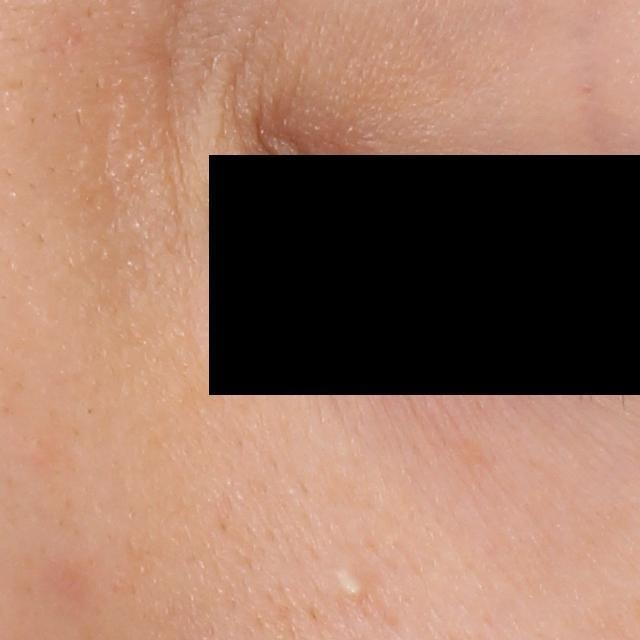comedo: (339, 569, 363, 601)
